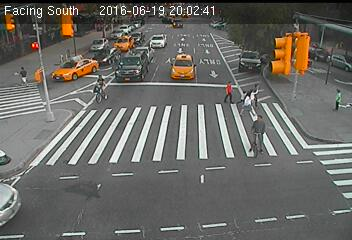neg: (239, 110, 274, 157), (87, 73, 109, 102), (105, 120, 122, 142), (168, 59, 184, 80), (196, 41, 212, 62), (145, 72, 160, 92), (147, 145, 162, 165), (253, 40, 263, 54)
pos: (245, 78, 265, 105), (238, 91, 257, 117), (328, 85, 345, 109), (13, 63, 30, 86), (220, 80, 236, 100)
